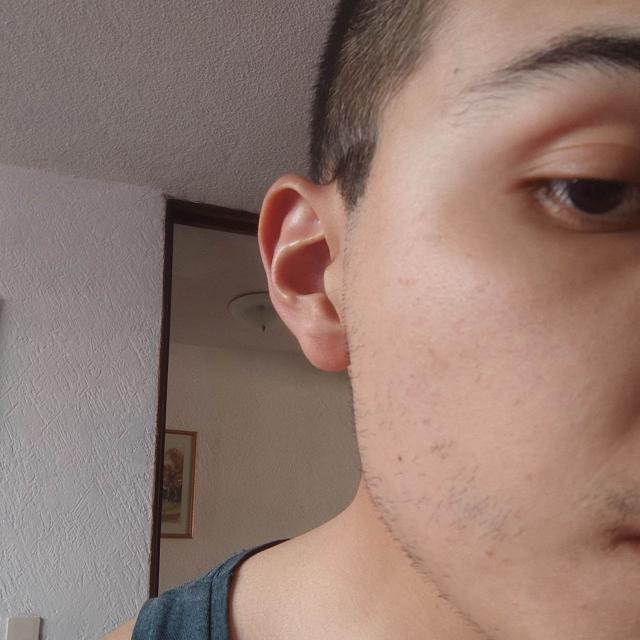ear: (259, 175, 349, 370)
